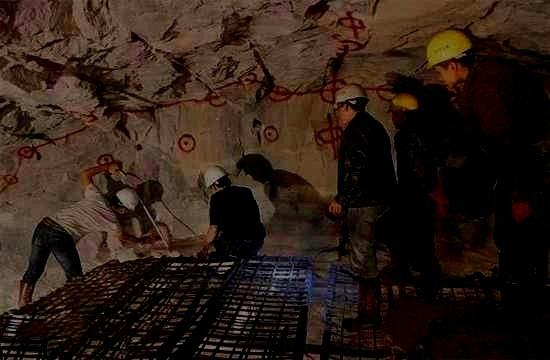helmet: (424, 30, 472, 91), (332, 83, 370, 126), (386, 92, 419, 131), (109, 187, 139, 215), (203, 165, 231, 195)
